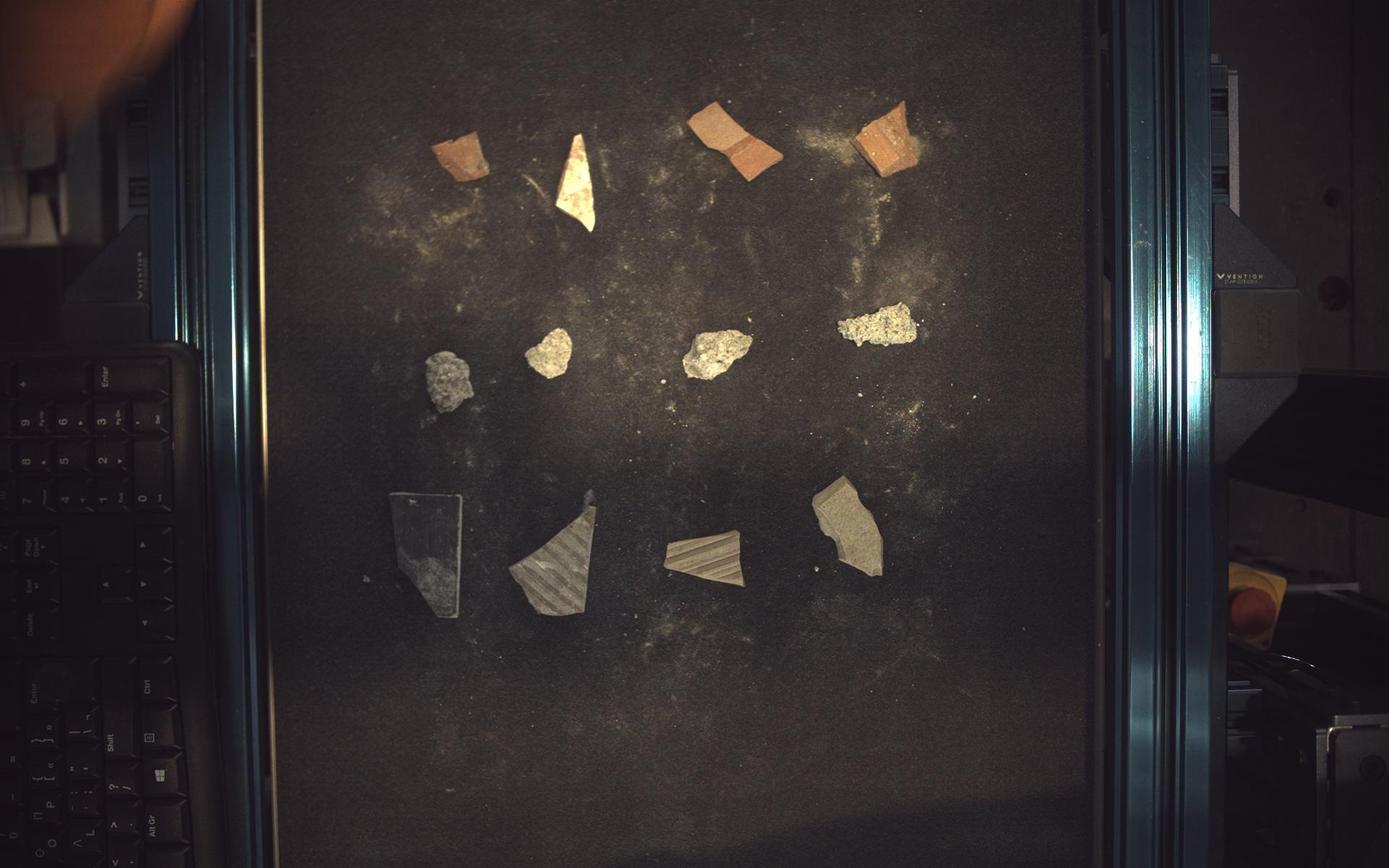brick: (689, 101, 784, 180), (856, 100, 920, 176), (556, 133, 596, 231), (432, 130, 490, 181)
concrete: (684, 329, 754, 380), (839, 302, 919, 346), (426, 351, 475, 413), (525, 328, 573, 378)
tile: (510, 507, 597, 617), (389, 493, 462, 619), (814, 476, 885, 577), (666, 531, 746, 587)
